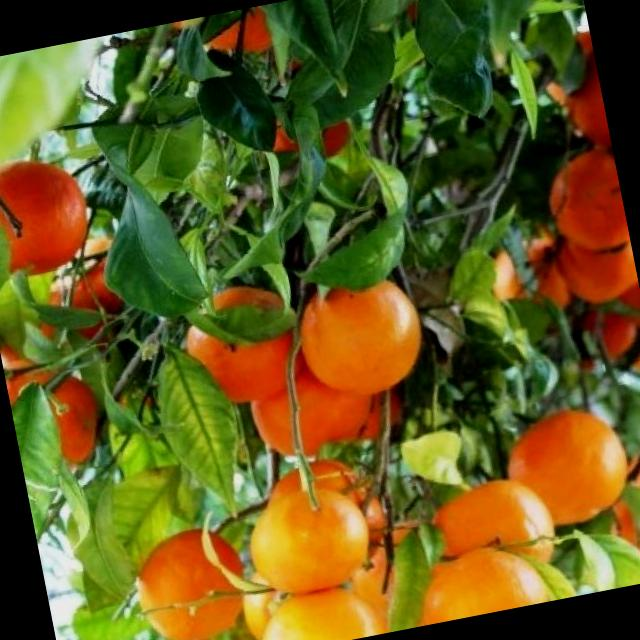Orange: (278, 230, 450, 406), (160, 258, 332, 428), (227, 333, 401, 470), (493, 387, 640, 541), (234, 470, 393, 606), (414, 461, 572, 588), (232, 59, 381, 184), (121, 514, 261, 640), (0, 135, 109, 292), (6, 352, 122, 483), (408, 528, 559, 622), (476, 217, 588, 333), (532, 147, 632, 265), (246, 565, 393, 640), (559, 287, 640, 373)
